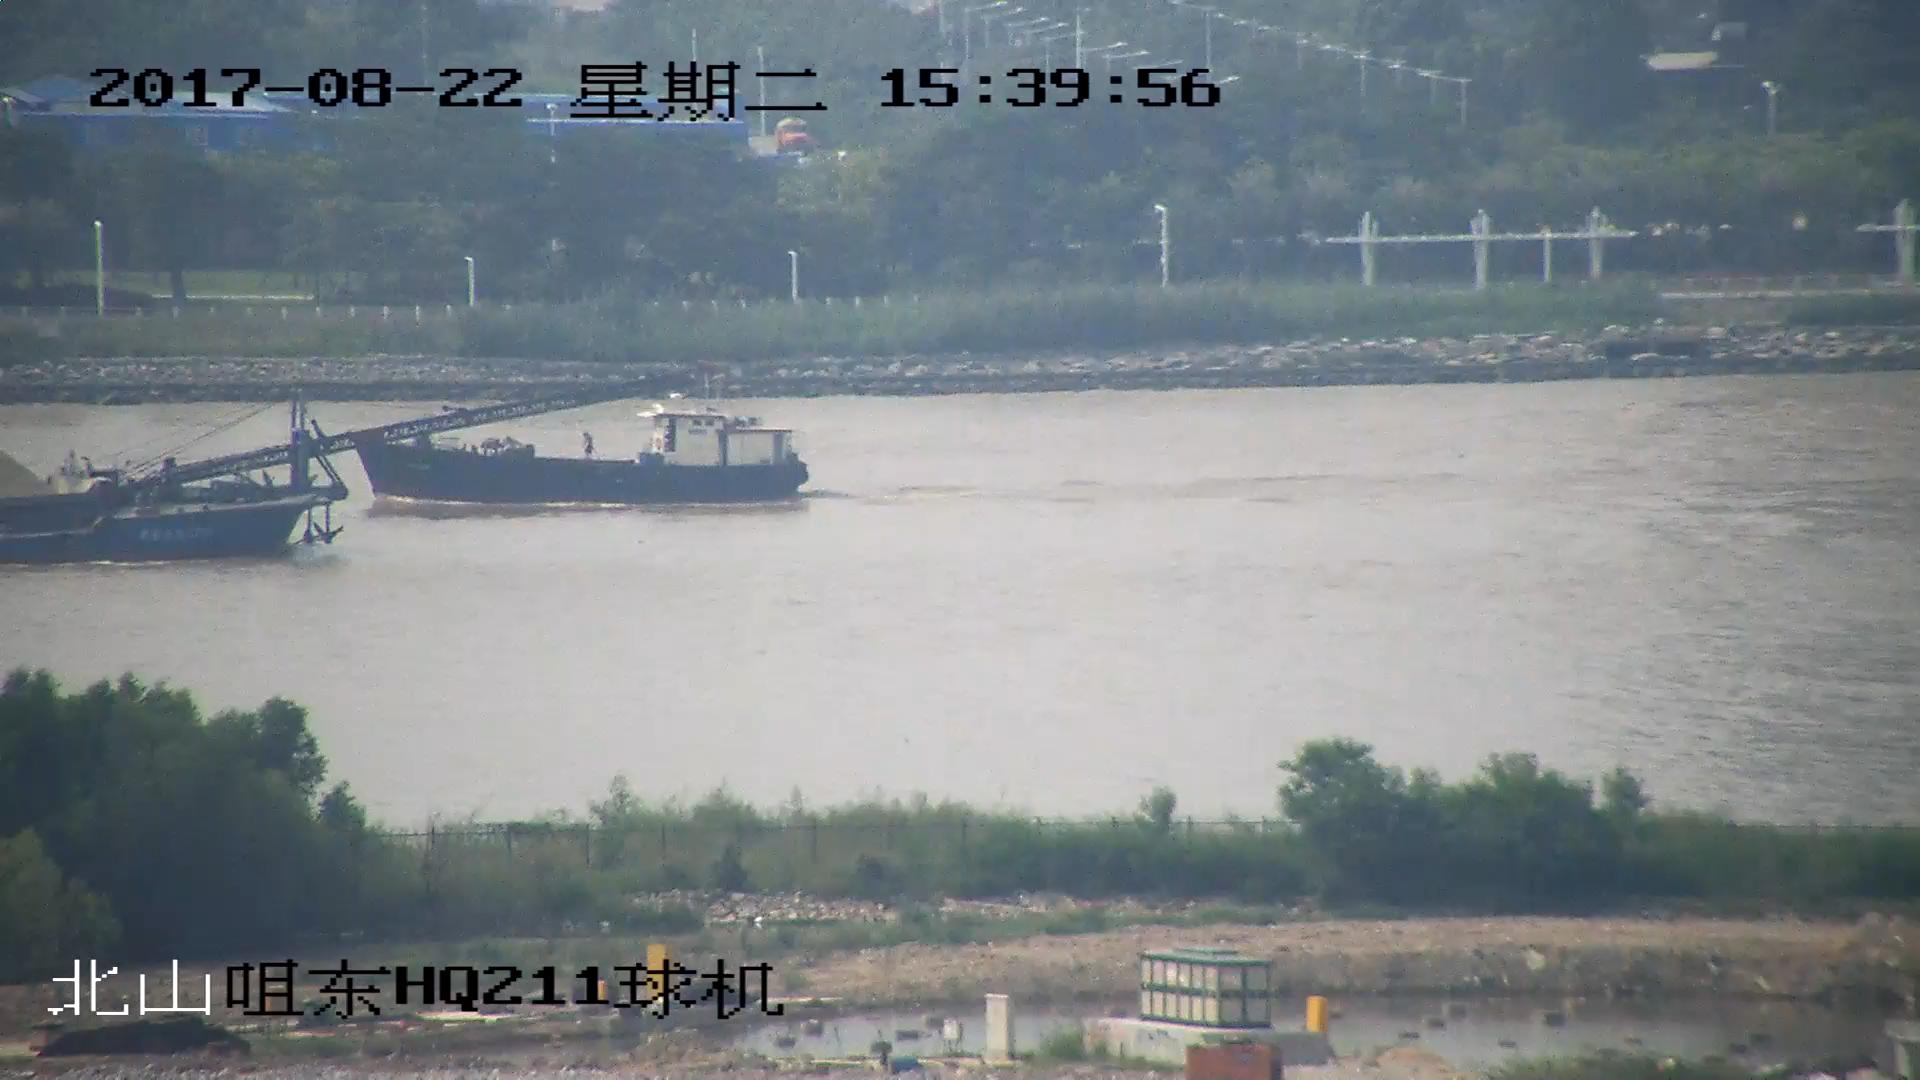fishing boat: (338, 405, 812, 505)
ore carrier: (1, 367, 697, 569)
